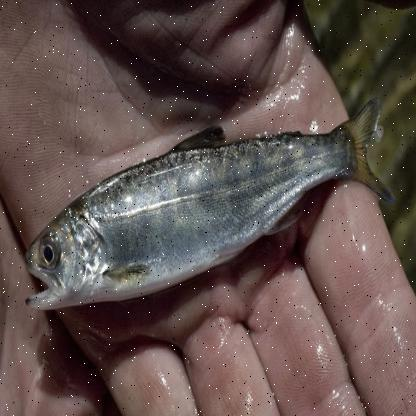fish: (23, 98, 398, 310)
